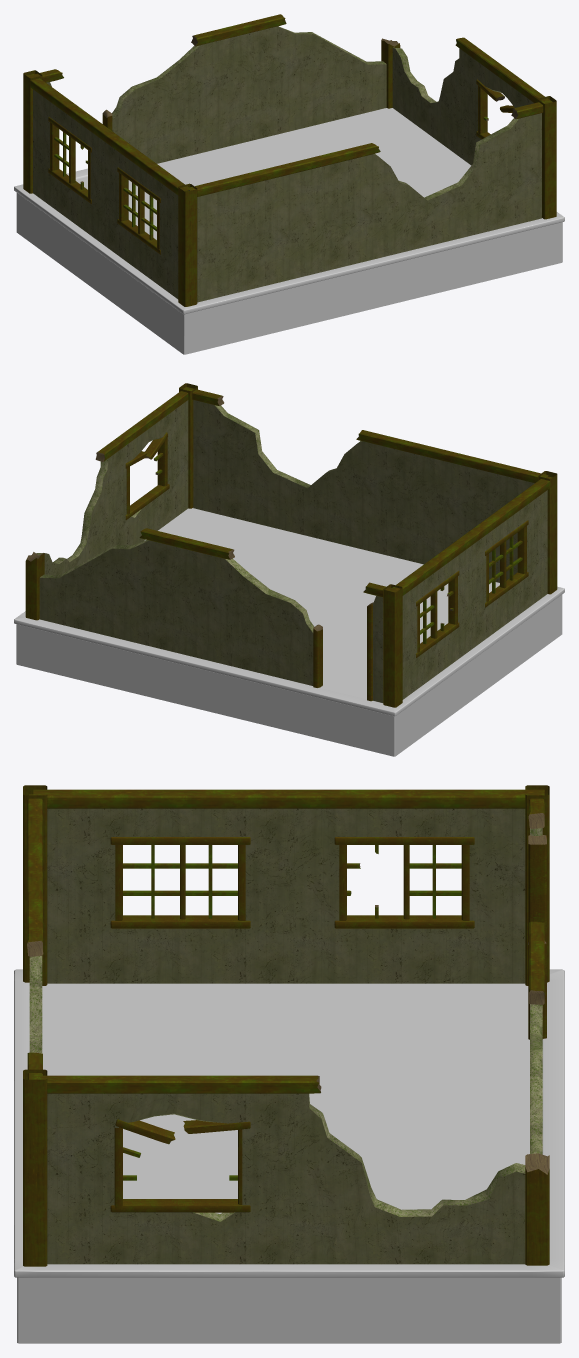
Rendered from CasaForca_30mai.fbx.
The picture shows the model from 3 angles, top to bottom: view 1: azimuth 30°, elevation 25°; view 2: azimuth 150°, elevation 25°; view 3: azimuth 270°, elevation 25°; orthographic projection. The views are drawn at different scales.
Visible parts, largest first — view 1: pCube762; view 2: pCube762; view 3: pCube762.
Boxes of the visible parts, x1=… form: pCube762: x1=14, y1=14, x2=564, y2=354; pCube762: x1=14, y1=383, x2=564, y2=756; pCube762: x1=14, y1=785, x2=564, y2=1343.
Bounding box in the file's own units: 1020 × 410 × 785.
